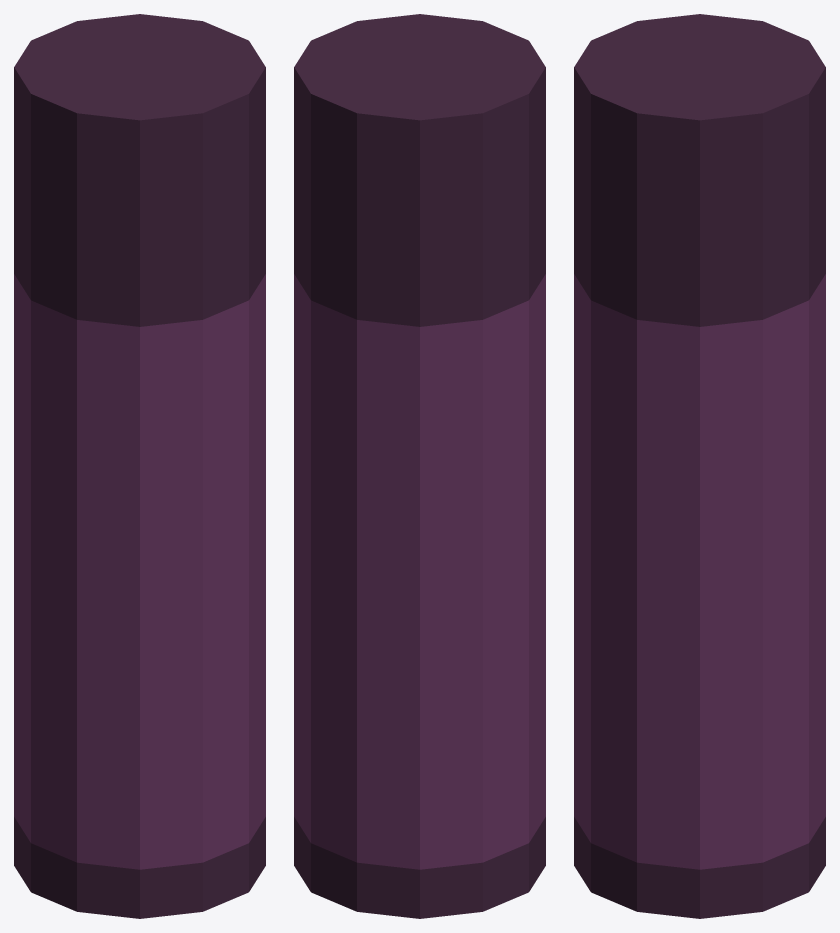
Rendered from Laumania_Zipper_Sample01.fbx.
3 renders of one model, left to right at view 1: azimuth 30°, elevation 25°; view 2: azimuth 150°, elevation 25°; view 3: azimuth 270°, elevation 25°, orthographic.
Parts seen in each view (by area): view 1: Laumania_Zipper_Sample01; view 2: Laumania_Zipper_Sample01; view 3: Laumania_Zipper_Sample01.
Boxes of the visible parts, x1,y1,x2,y2 form: Laumania_Zipper_Sample01: (14,14,265,918); Laumania_Zipper_Sample01: (294,14,545,918); Laumania_Zipper_Sample01: (574,14,825,918).
Bounding box in the file's own units: 0.02 × 0.07 × 0.02.
